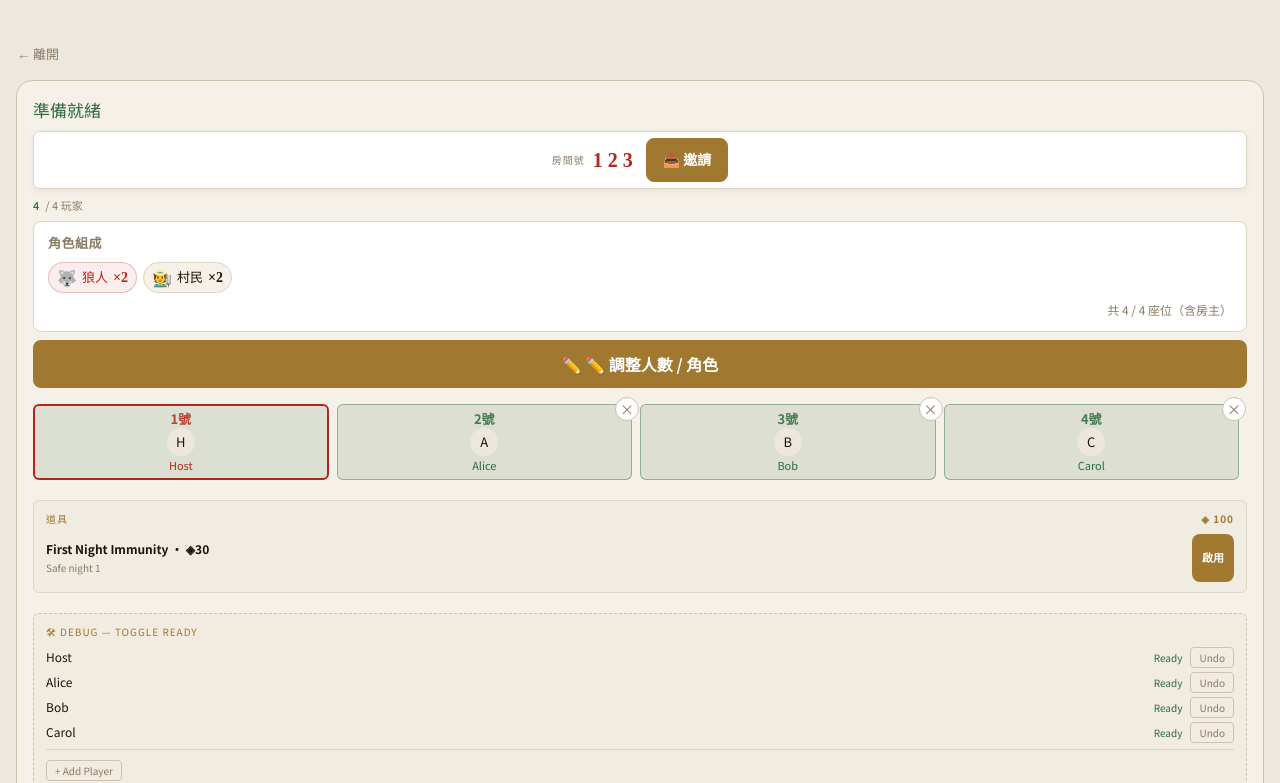
Test: RoomView perk panel › falls back to a generic error message when the response carries no error field
Click the button with test id "perk-activate-btn": (1213, 558) [1192,534,1234,582]
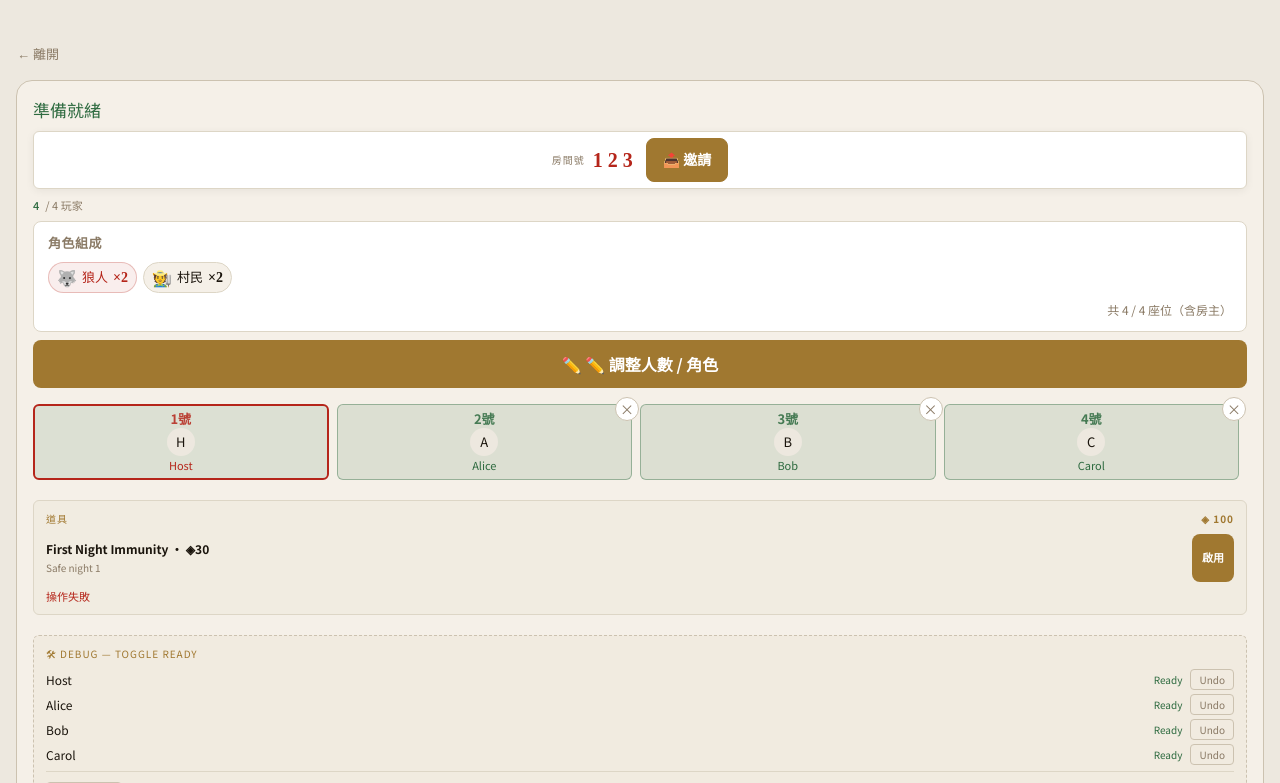
Expected: the text with test id "perk-error" reads "操作失敗", [46,588,90,604]
